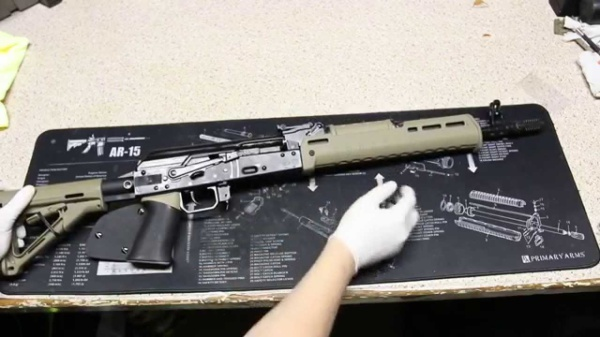ak47: (4, 97, 541, 277)
